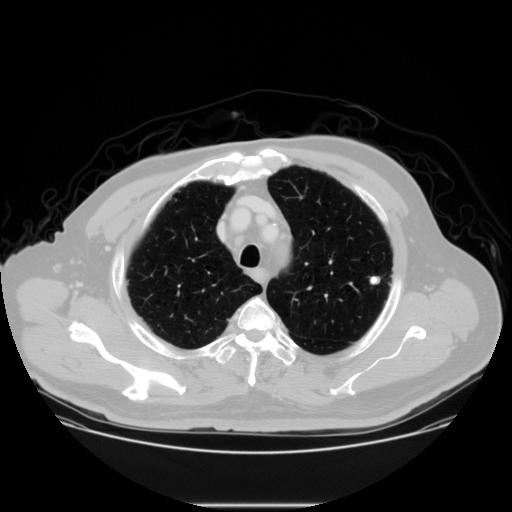nodule: (366, 271, 383, 288)
